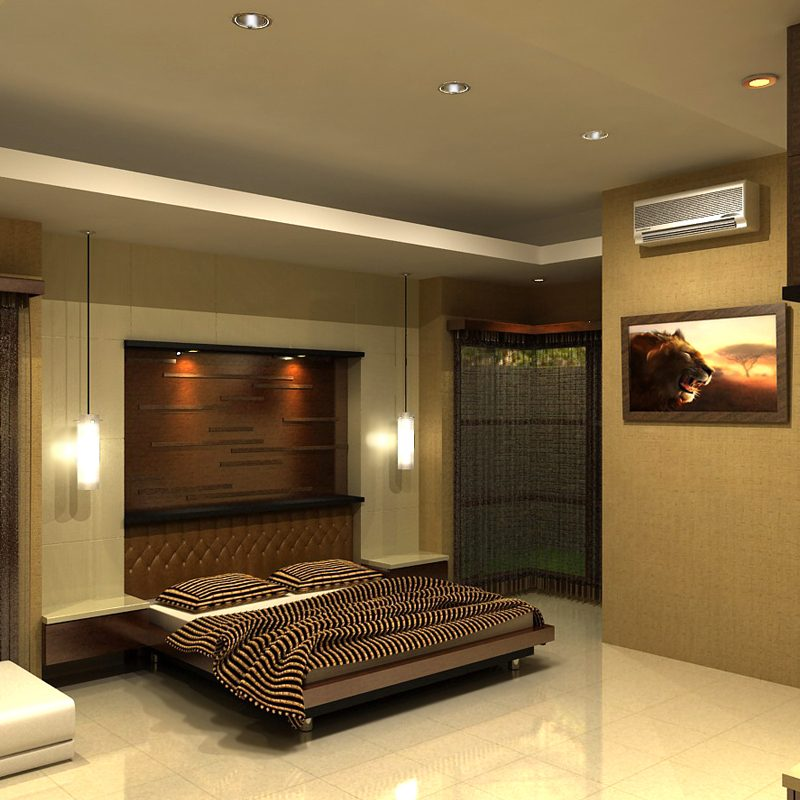lampu: (51, 210, 119, 537), (371, 256, 436, 498)
